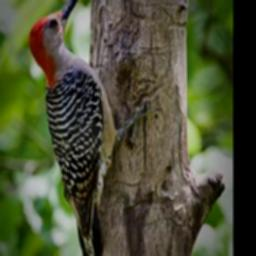Woodpecker: (19, 0, 164, 256)
